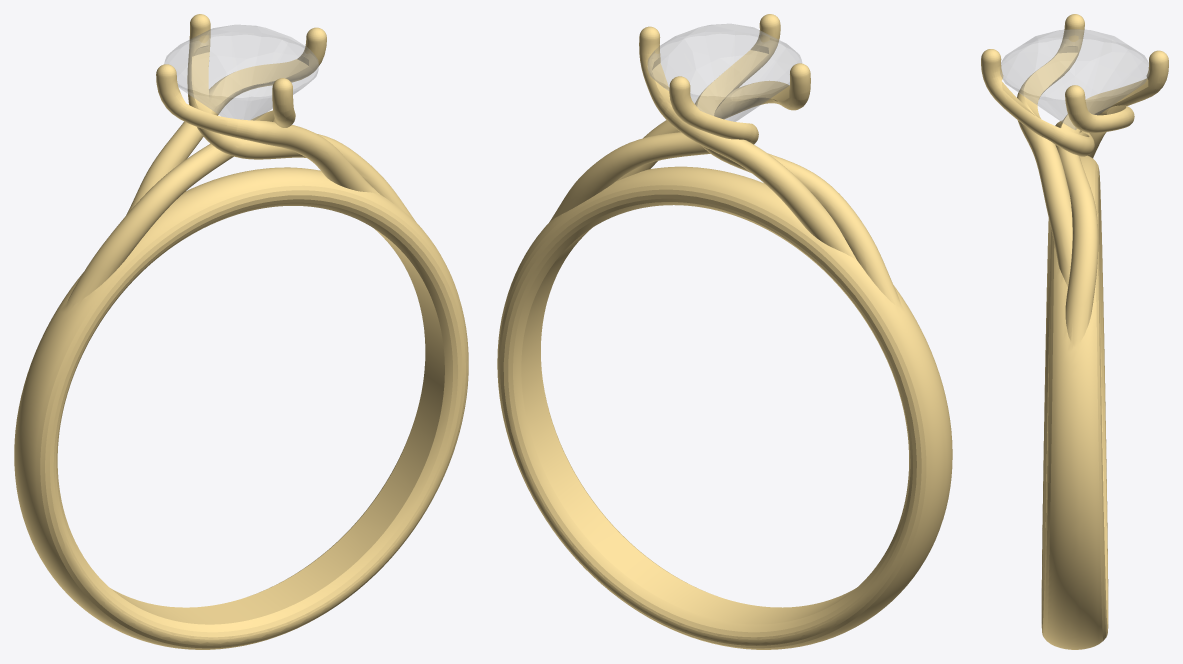
The model's file is ring one.glb.
3 views of the same model, side by side, from view 1: azimuth 30°, elevation 25°; view 2: azimuth 150°, elevation 25°; view 3: azimuth 270°, elevation 25° (orthographic). The views are drawn at different scales.
Visible parts, largest first — view 1: MeshBody1, Body1; view 2: MeshBody1, Body1; view 3: MeshBody1, Body1.
Part boxes in pixels (x1=…): MeshBody1: x1=14, y1=14, x2=468, y2=649; Body1: x1=164, y1=25, x2=318, y2=120; MeshBody1: x1=497, y1=14, x2=952, y2=649; Body1: x1=648, y1=24, x2=801, y2=121; MeshBody1: x1=981, y1=14, x2=1168, y2=649; Body1: x1=1000, y1=29, x2=1149, y2=129.
Bounding box in the file's own units: 0.0198 × 0.0256 × 0.0075.
